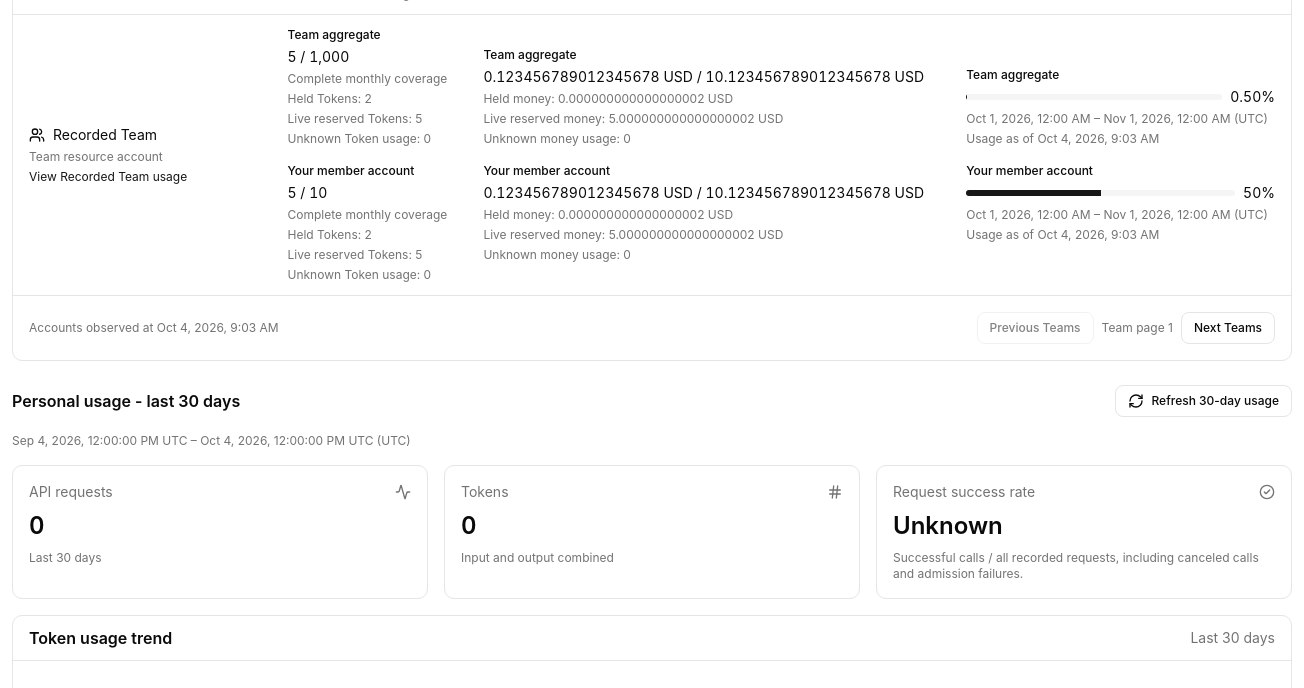
Scenario: monthly member Overview › paginates at ten Teams with Personal repeated once and disables absent next page
(page scrolled)
Click the button "Next Teams".
click(1228, 328)  # box [1181,312,1275,344]
(page scrolled)
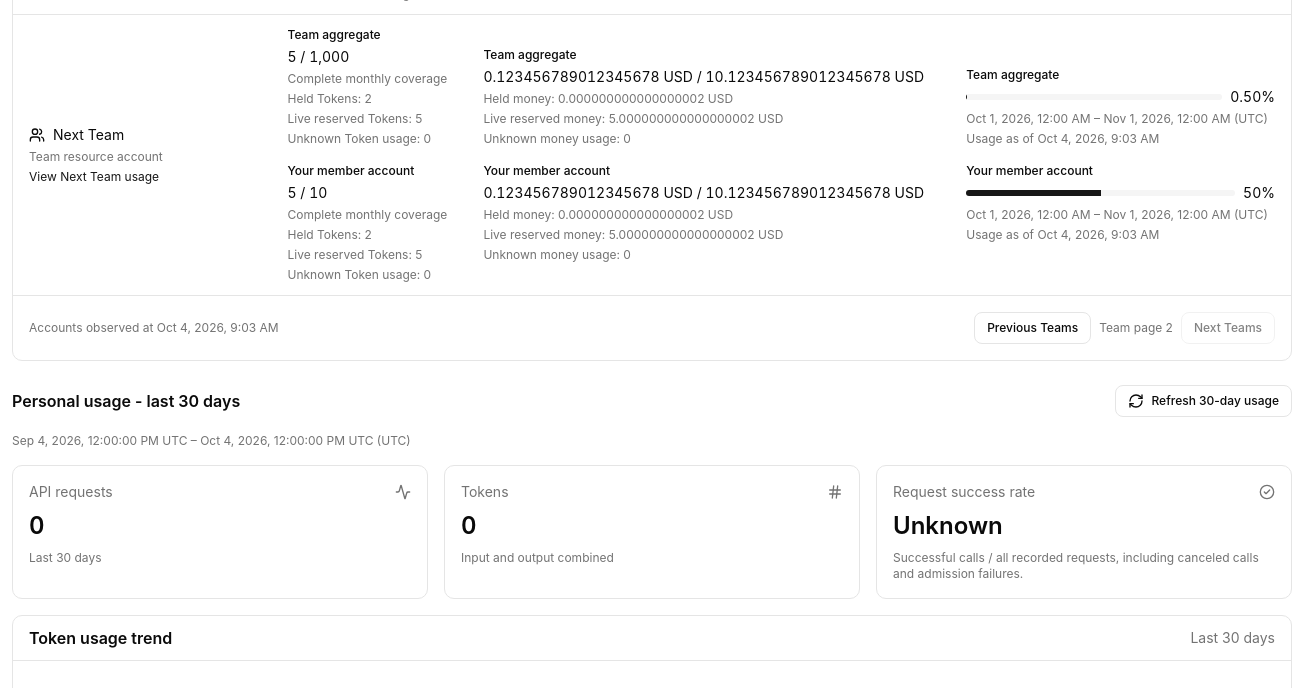
Expected: the text "Next Team" is shown, [53,124,124,144]
Expected: the text "Recorded Team" is gone
Expected: the button "Next Teams" is disabled, [1181,312,1275,344]
Click the button "Previous Teams".
click(1033, 328)  # box [974,312,1091,344]
(page scrolled)
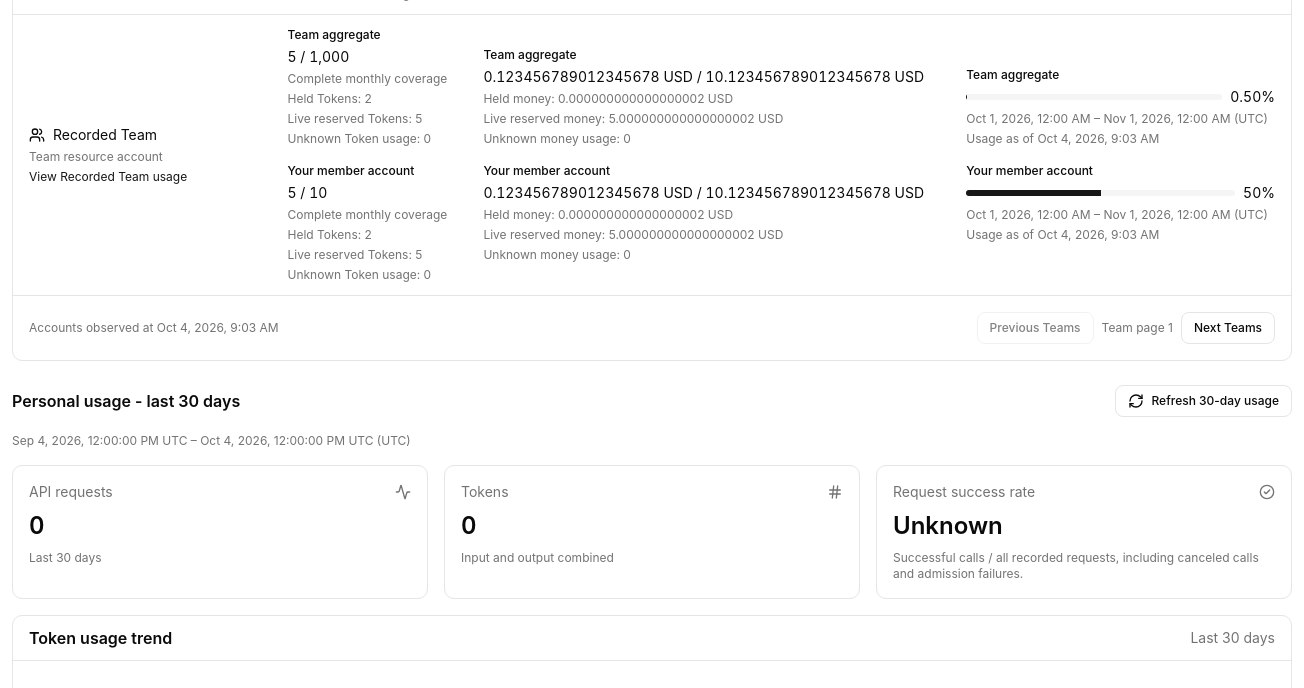
Expected: the text "Recorded Team" is shown, [53,124,157,144]
